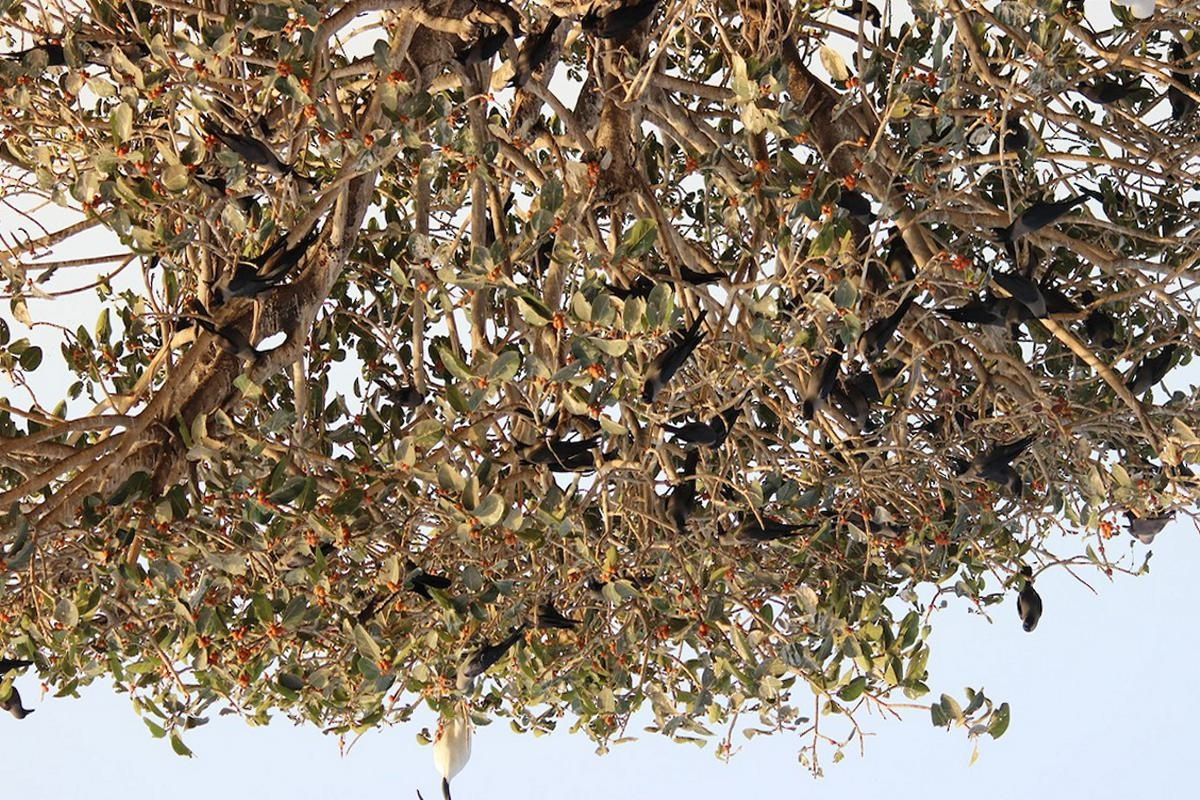crow: (636, 308, 710, 410), (211, 115, 307, 184), (956, 428, 1040, 501), (778, 332, 839, 428), (993, 183, 1078, 246), (504, 418, 605, 468), (450, 623, 524, 691), (736, 486, 814, 550), (1, 658, 59, 737), (511, 21, 550, 104), (1008, 568, 1047, 644), (854, 310, 899, 366), (659, 470, 699, 532)
